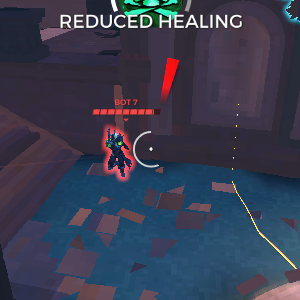model: (99, 124, 136, 178)
